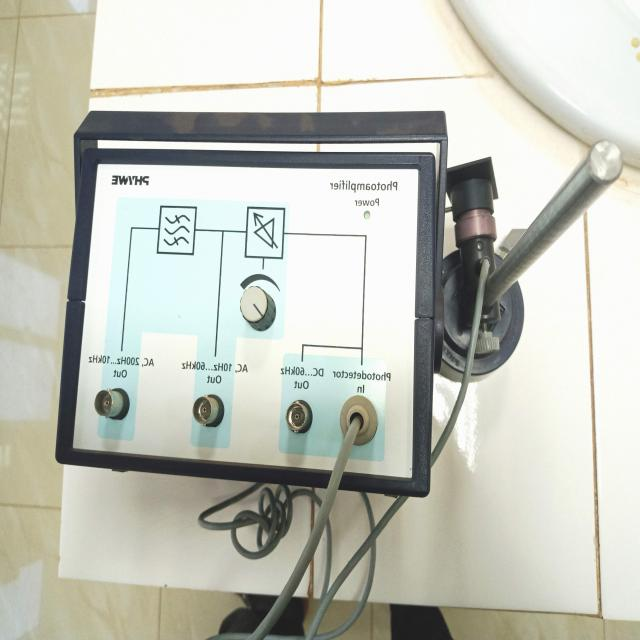Photo Amplifier Power Supply: (42, 89, 628, 524)
